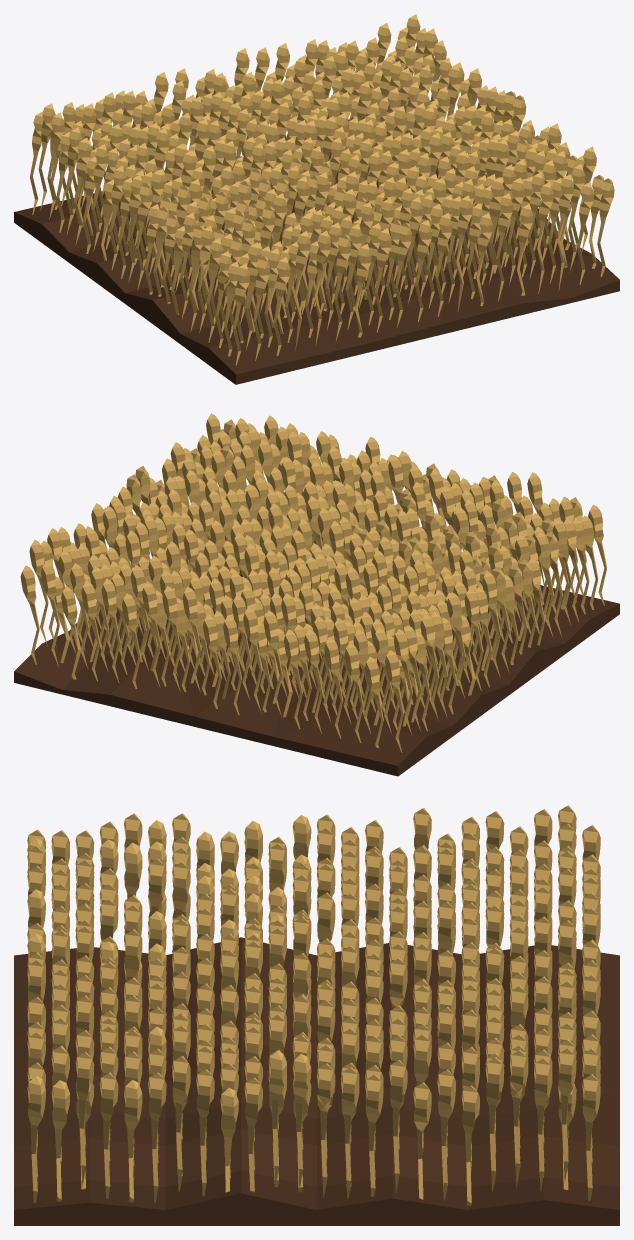
File: Farm_Wheat001.fbx
3 views of the same model, one above another, from view 1: azimuth 30°, elevation 25°; view 2: azimuth 150°, elevation 25°; view 3: azimuth 270°, elevation 25° (orthographic). The views are drawn at different scales.
Visible parts, largest first — view 1: Cylinder.194; view 2: Cylinder.194; view 3: Cylinder.194.
Part boxes in pixels (bbox=[...]): Cylinder.194: bbox=[14, 14, 619, 384]; Cylinder.194: bbox=[14, 413, 619, 776]; Cylinder.194: bbox=[14, 805, 619, 1225].
Bounding box in the file's own units: 499 × 160 × 496.
